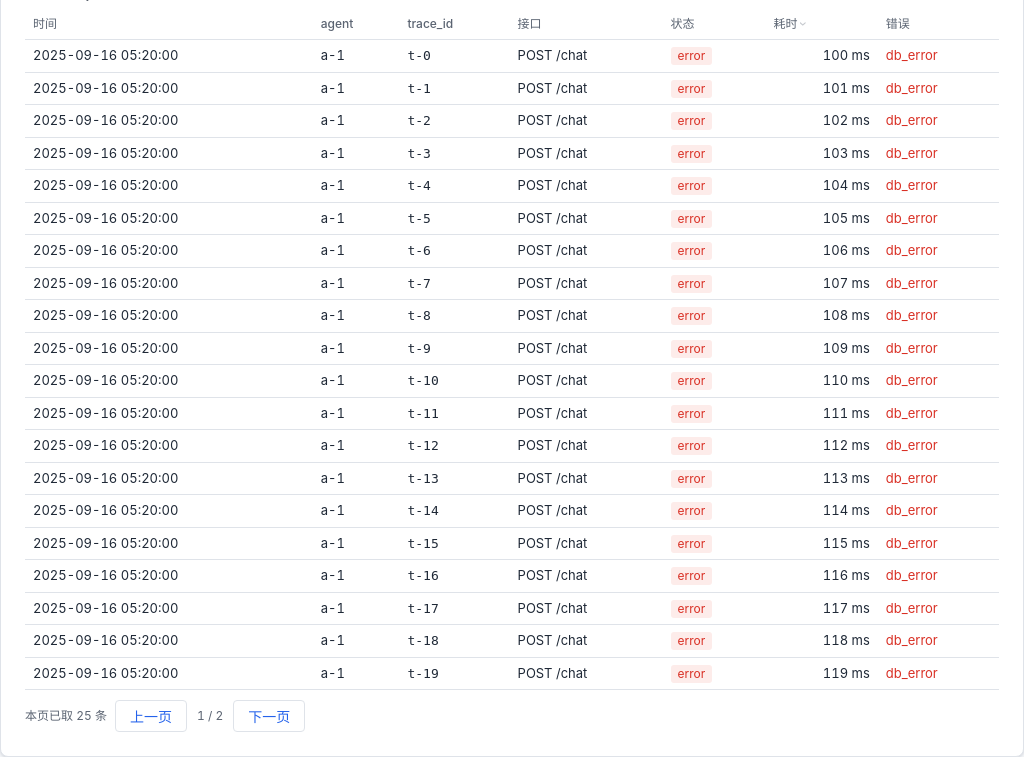
it: 批 49 异常页分页（每页 20） › 翻到第 2 页后触发排序：回到第 1 页而不是继续停在第 2 页
The image size is (1024, 757).
(page scrolled)
Step 1. Click the button "下一页" → [269, 716], box 233,700 -> 305,732
(page scrolled)
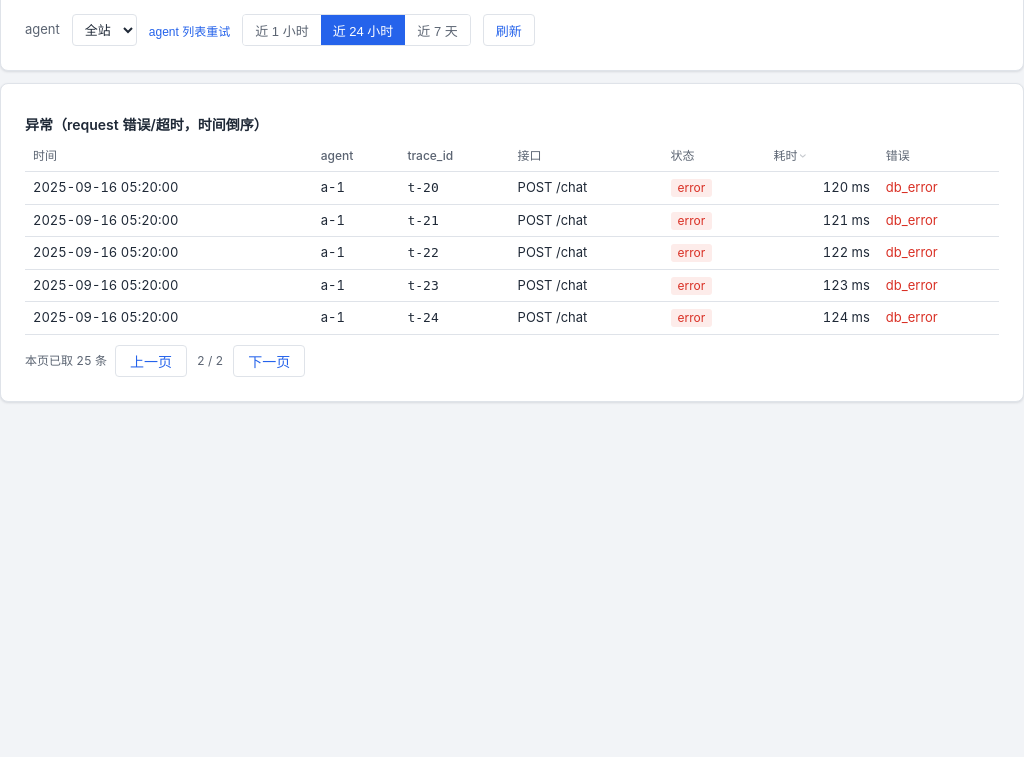
Step 2. Click the column heading "耗时 ›" → [822, 156], box 766,141 -> 878,172
(page scrolled)
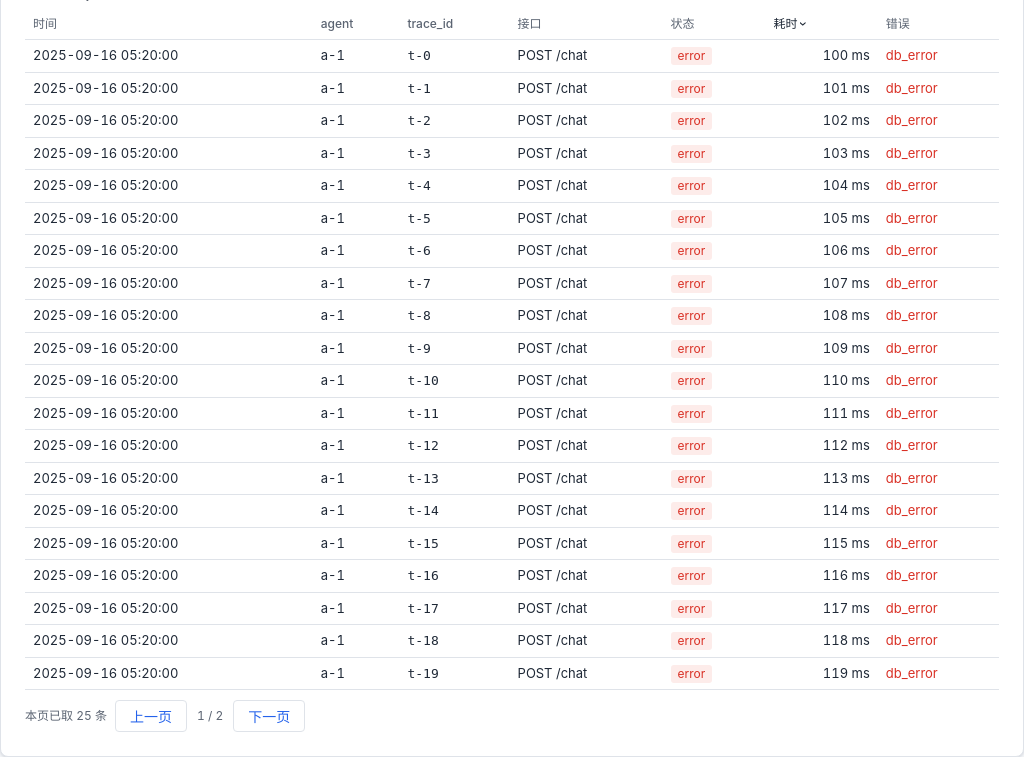
Check: the text "1 / 2" is shown, box 197,707 -> 223,725
